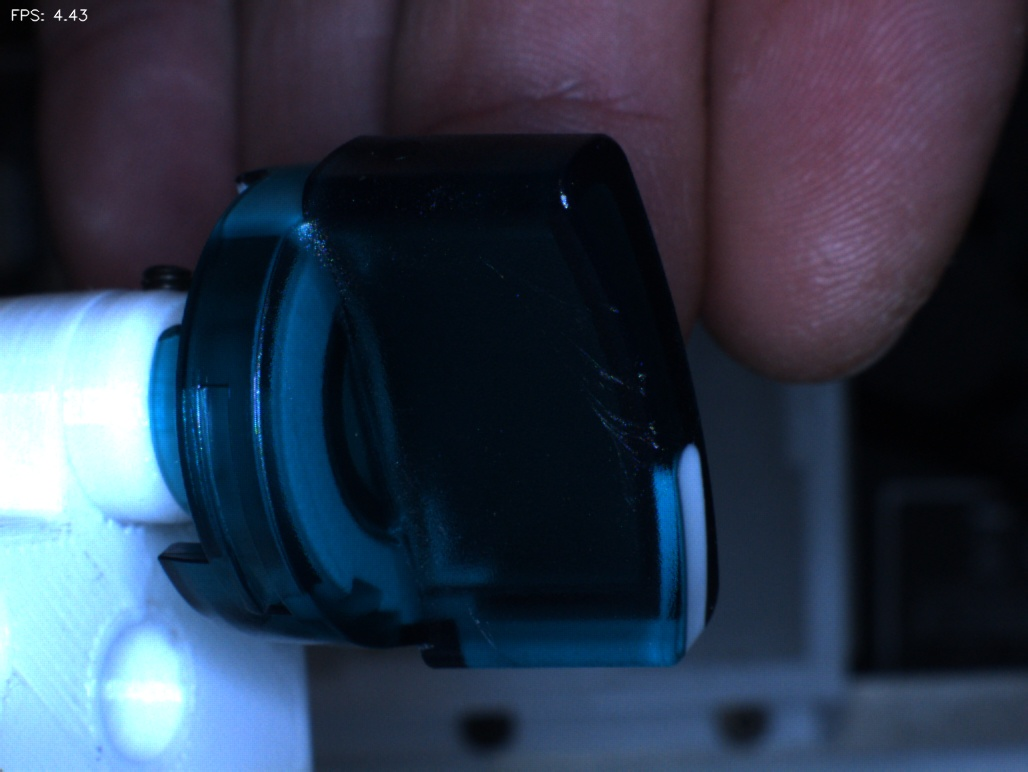Givrage: (502, 278, 668, 455)
